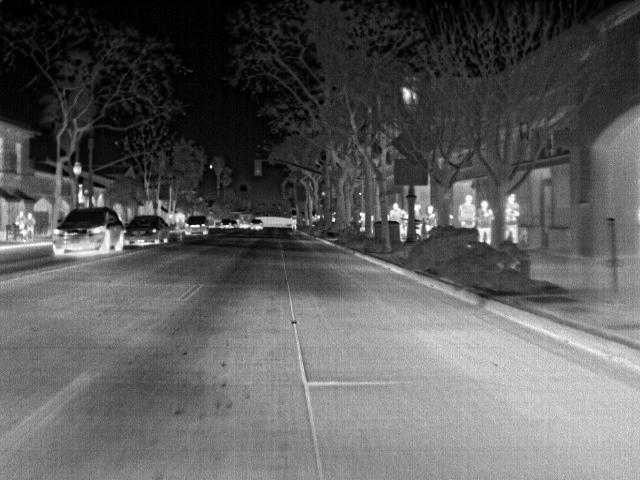car: (50, 206, 125, 259), (125, 214, 170, 246), (181, 214, 211, 238), (249, 218, 267, 232), (219, 218, 236, 230)
person: (383, 201, 409, 241), (506, 192, 522, 244), (476, 198, 493, 244), (458, 192, 479, 228), (22, 211, 39, 240), (422, 204, 437, 234), (12, 210, 27, 239)
